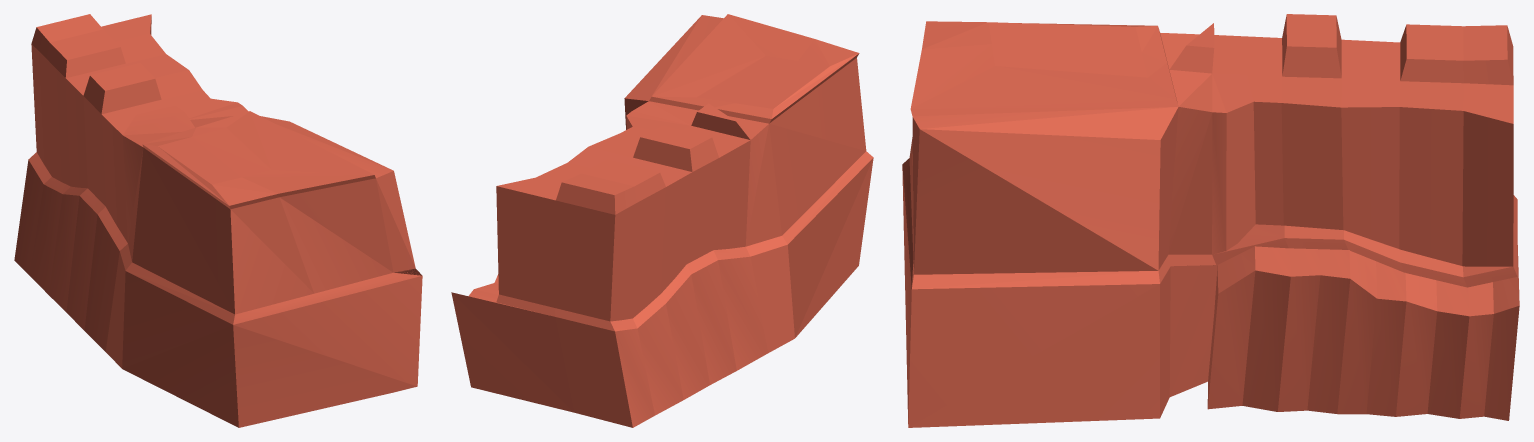
Rendered from Roca5.fbx.
3 views of the same model, side by side, from view 1: azimuth 30°, elevation 25°; view 2: azimuth 150°, elevation 25°; view 3: azimuth 270°, elevation 25° (orthographic). The views are drawn at different scales.
Visible parts, largest first — view 1: Cube.011; view 2: Cube.011; view 3: Cube.011.
Boxes of the visible parts, x1,y1,x2,y2 form: Cube.011: (14, 14, 422, 427); Cube.011: (451, 14, 873, 427); Cube.011: (902, 14, 1519, 427).
Bounding box in the file's own units: 1980 × 2113 × 3835.
